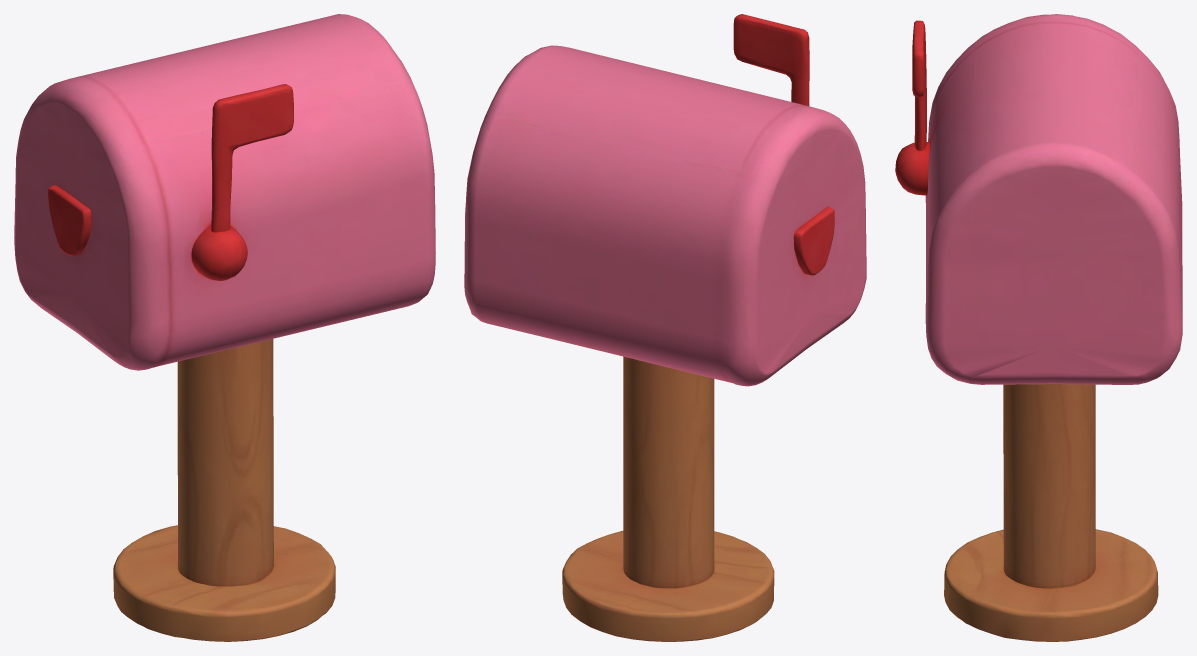
The model's file is garden-mailbox.glb.
3 renders of one model, left to right at view 1: azimuth 30°, elevation 25°; view 2: azimuth 150°, elevation 25°; view 3: azimuth 270°, elevation 25°, orthographic. The views are drawn at different scales.
Visible parts, largest first — view 1: geometry_0; view 2: geometry_0; view 3: geometry_0.
Boxes of the visible parts, x1,y1,x2,y2 form: geometry_0: (14, 14, 435, 641); geometry_0: (464, 14, 866, 641); geometry_0: (895, 14, 1182, 641).
Size of the model in its own units: 0.5828 by 1 by 0.4809.
Materials: 1 (1 with a texture image).
